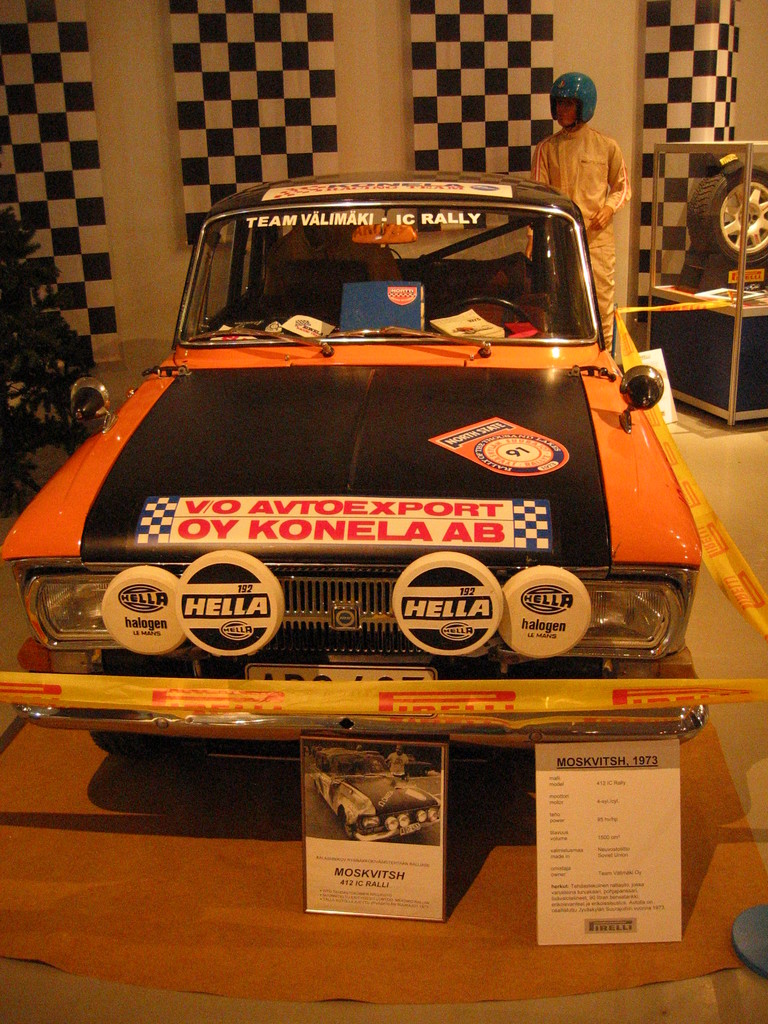Car: (5, 188, 717, 789), (307, 750, 441, 840)
